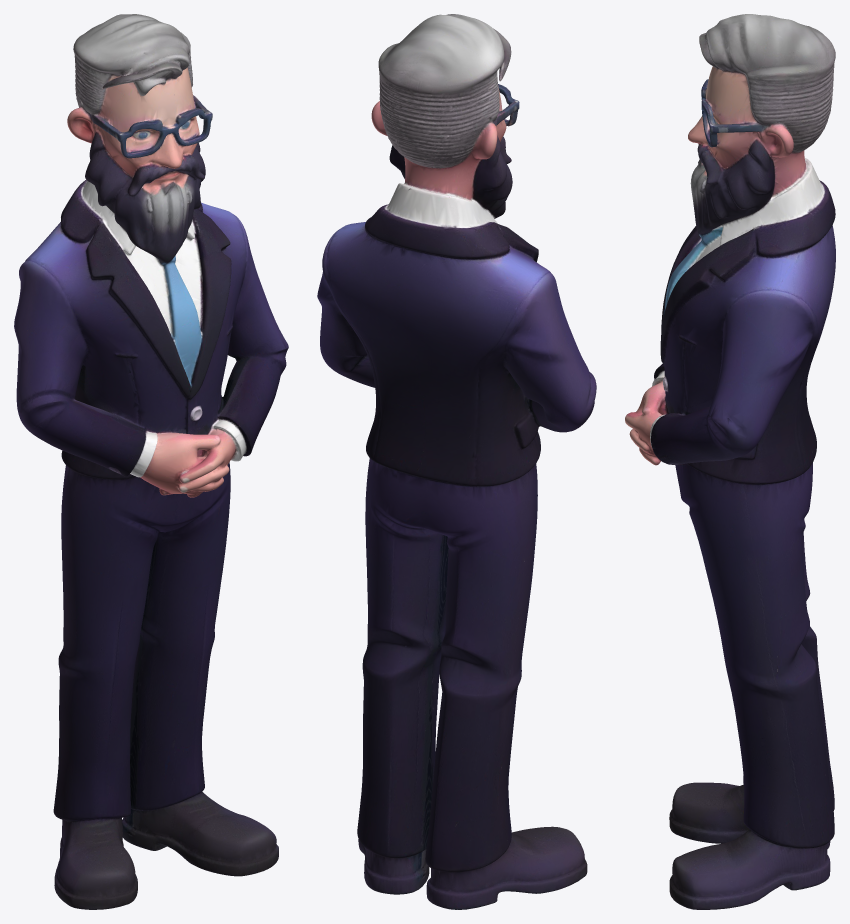
Rendered from professor-new.glb.
The picture shows the model from 3 angles, left to right: view 1: azimuth 30°, elevation 25°; view 2: azimuth 150°, elevation 25°; view 3: azimuth 270°, elevation 25°; orthographic projection.
Visible parts, largest first — view 1: Mesh_0.003; view 2: Mesh_0.003; view 3: Mesh_0.003.
Boxes of the visible parts, box(x1,y1,x2,y2) form: Mesh_0.003: box(14, 14, 288, 909); Mesh_0.003: box(317, 14, 596, 909); Mesh_0.003: box(625, 14, 835, 909).
Size of the model in its own units: 0.5737 by 1.76 by 0.3995.
Materials: 1 (1 with a texture image).
